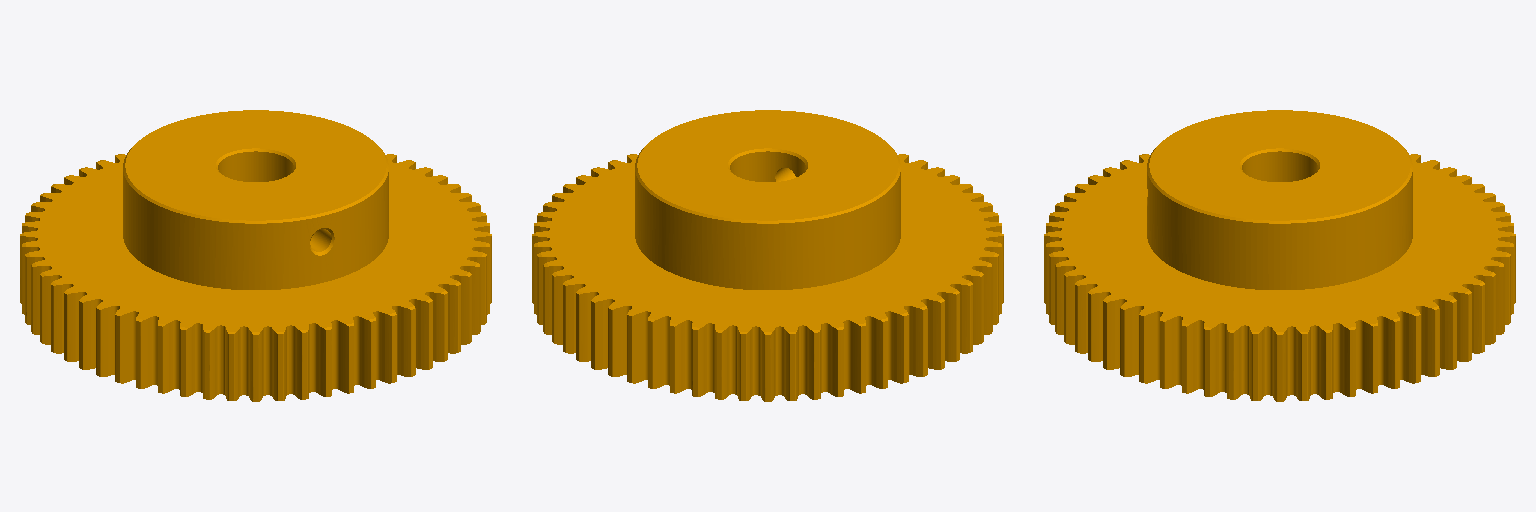
The robot description file, URDF, robot "industreal_gear_large":
<?xml version="1.0"?>
<robot name="industreal_gear_large">
    <link name="industreal_gear_large">
        <visual>
            <geometry>
                <mesh filename="../mesh/industreal_gears/industreal_gear_large.obj"/>
            </geometry>
        </visual>
        <collision>
            <geometry>
                <mesh filename="../mesh/industreal_gears/industreal_gear_large.obj"/>
            </geometry>
            <sdf resolution="256"/>
        </collision>
    </link>
</robot>

--- Facts derived from the render (not from the file) ---
Views: 3 orthographic renders of the robot side by side, from view 1: azimuth 30°, elevation 25°; view 2: azimuth 150°, elevation 25°; view 3: azimuth 270°, elevation 25°.
Robot: industreal_gear_large — 1 links, 0 joints (none); root link industreal_gear_large; default pose: every joint at zero.
Visible links, largest first — view 1: industreal_gear_large; view 2: industreal_gear_large; view 3: industreal_gear_large.
Link boxes in pixels (<box>): industreal_gear_large: <box>20,110,491,401</box>; industreal_gear_large: <box>532,110,1003,401</box>; industreal_gear_large: <box>1044,110,1515,401</box>.
Bounding box of the posed robot: 0.062 × 0.062 × 0.02 m (x, y, z).
Meshes: 1 distinct files referenced, 1 mesh visuals loaded (1 OBJ).